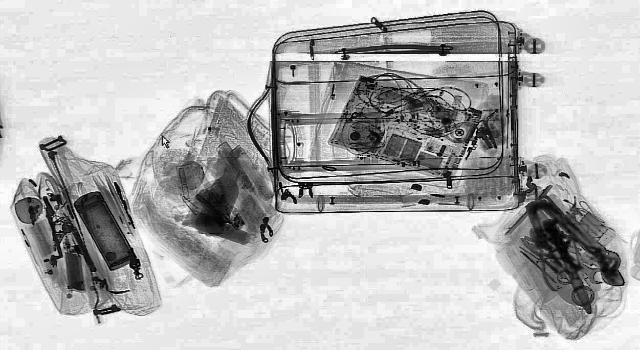Wrench: (525, 192, 639, 286)
